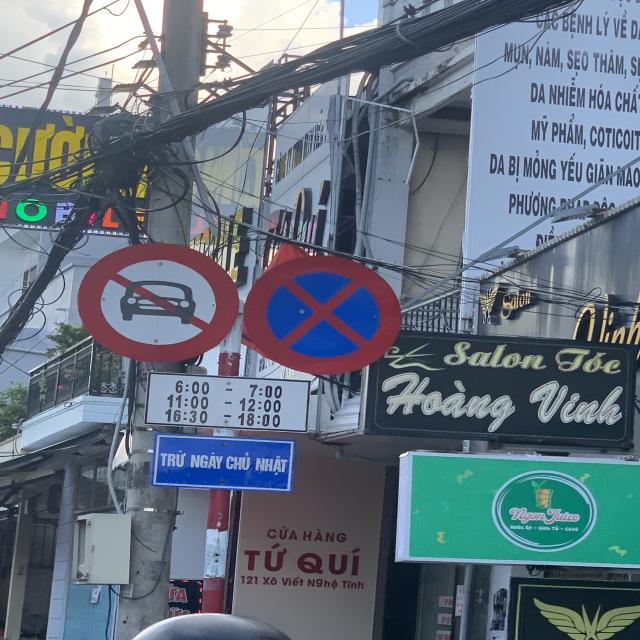Cam_Dung_Va_Dau_Xe: (245, 257, 404, 375)
Cam_O_To: (79, 244, 240, 365)
